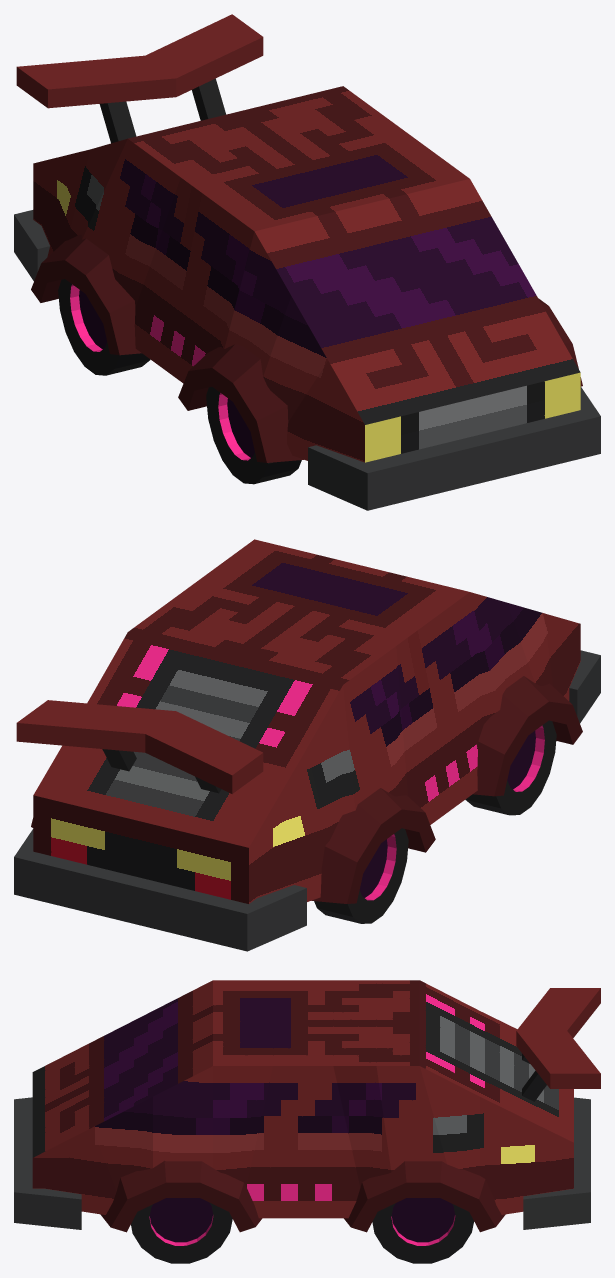
Rendered from Car_Fast.gltf.
The picture shows the model from 3 angles, top to bottom: view 1: azimuth 30°, elevation 25°; view 2: azimuth 150°, elevation 25°; view 3: azimuth 270°, elevation 25°; orthographic projection. The views are drawn at different scales.
Visible parts, largest first — view 1: cuboid (×6), Wheel (×2), cube (×2); view 2: cuboid (×6), Wheel (×2); view 3: cuboid (×6), Wheel (×2), cube.
Boxes of the visible parts, x1=… form: cuboid (×6): x1=14, y1=14, x2=600, y2=510; Wheel (×2): x1=58, y1=279, x2=301, y2=484; cube (×2): x1=99, y1=78, x2=225, y2=143; cuboid (×6): x1=14, y1=539, x2=600, y2=951; Wheel (×2): x1=314, y1=720, x2=556, y2=923; cuboid (×6): x1=14, y1=980, x2=600, y2=1232; Wheel (×2): x1=131, y1=1198, x2=473, y2=1263; cube: x1=522, y1=1070, x2=546, y2=1101.
Bounding box in the file's own units: 1.1 × 0.7477 × 2.17.
1 material, 1 textured.
